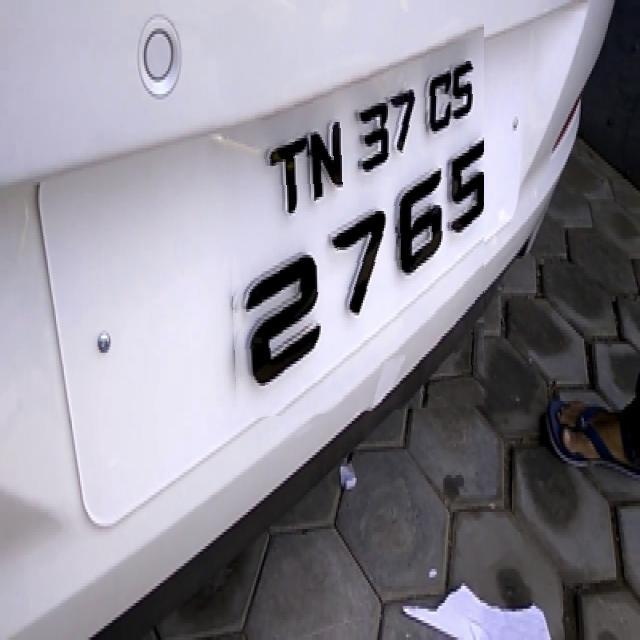licence: (222, 11, 484, 418)
